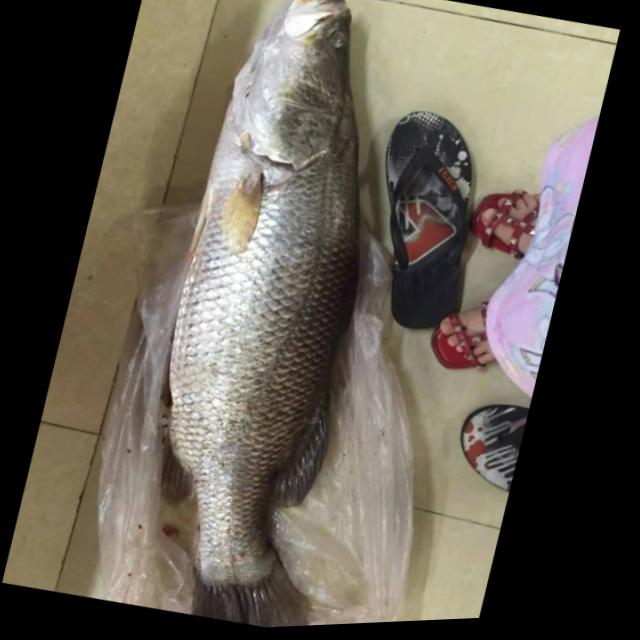Seabass: (102, 0, 458, 635)
